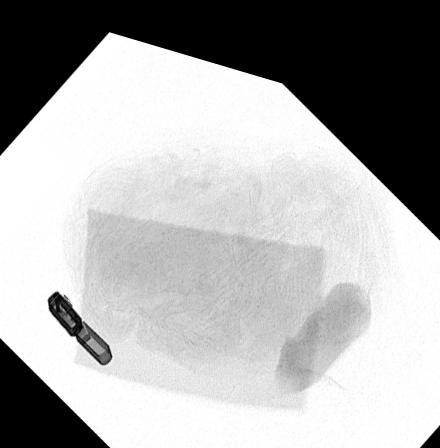Lighter: (47, 287, 112, 358)
